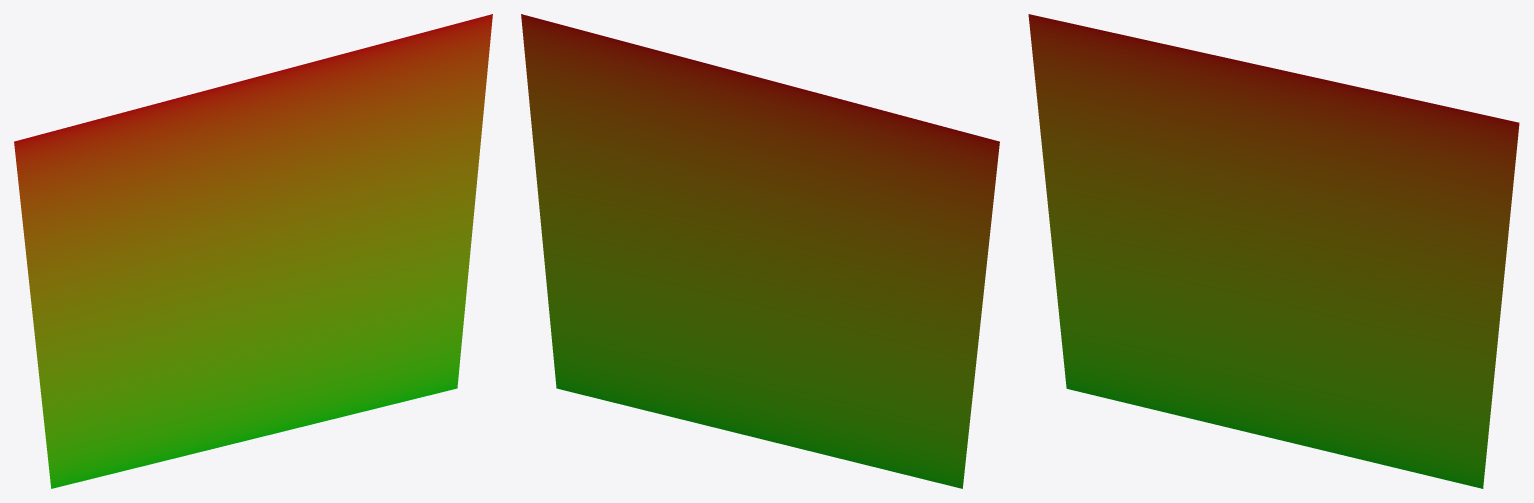
File: Nordic Coastal Groundcover___vlqkdeaja.fbx
3 views of the same model, side by side, from view 1: azimuth 30°, elevation 25°; view 2: azimuth 150°, elevation 25°; view 3: azimuth 330°, elevation 25° (orthographic). The views are drawn at different scales.
Parts seen in each view (by area): view 1: _9qt7_var56_lod6; view 2: _9qt7_var56_lod6; view 3: _9qt7_var56_lod6.
Part boxes in pixels (x1,y1,x2,y2): _9qt7_var56_lod6: [14, 14, 492, 488]; _9qt7_var56_lod6: [521, 14, 999, 488]; _9qt7_var56_lod6: [1028, 14, 1519, 488].
Bounding box in the file's own units: 110 × 80.41 × 0.000257.
